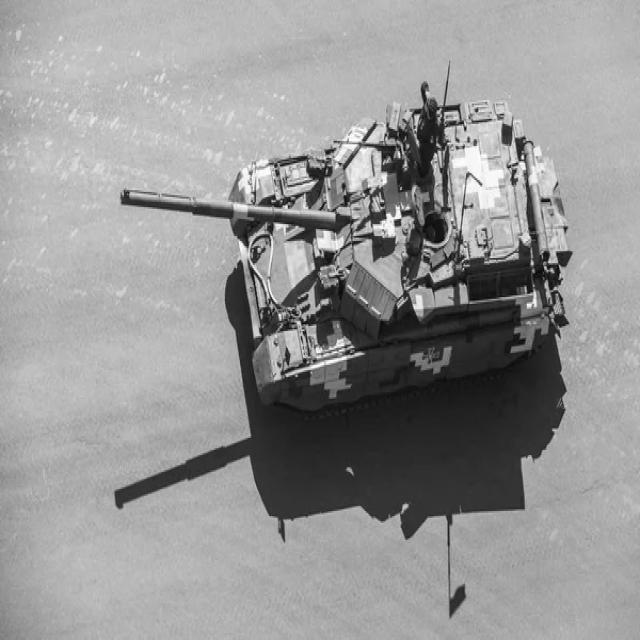Tank: (109, 82, 578, 418)
